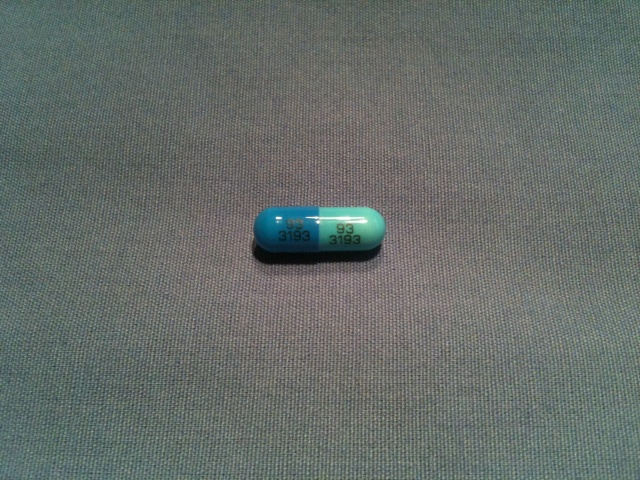capsule: (250, 204, 388, 258)
